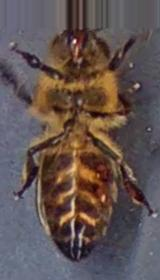varroa_mite: (85, 177, 123, 212)
